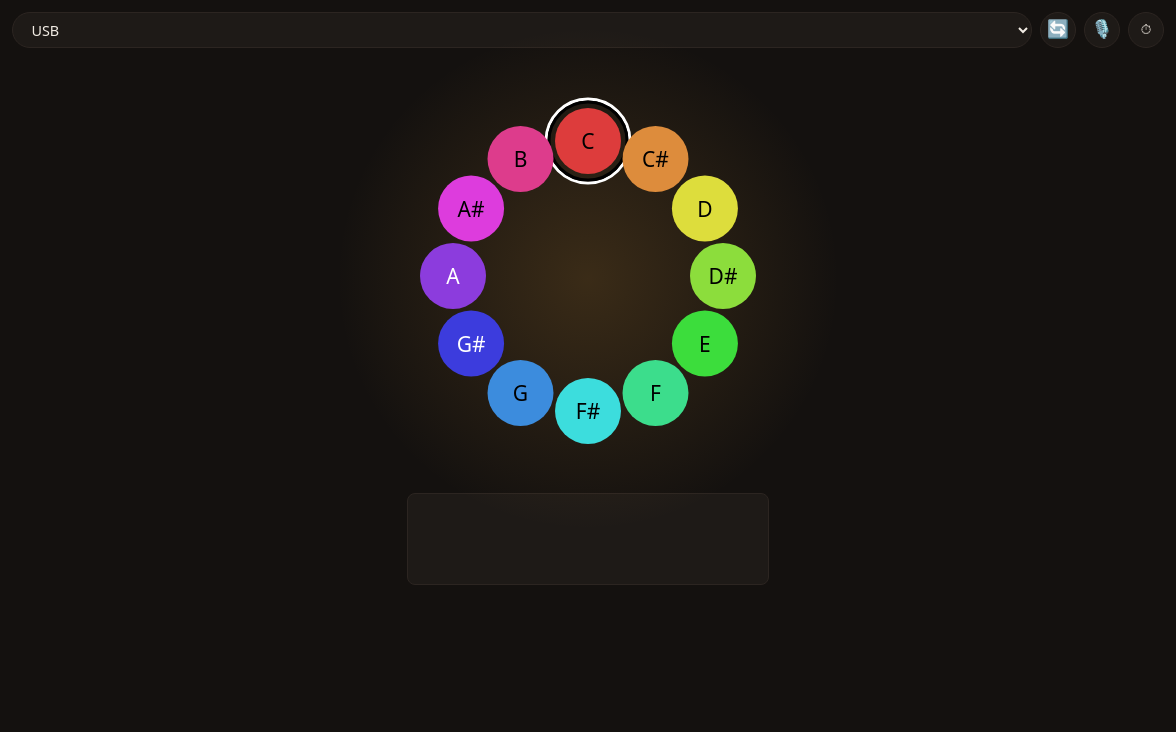
Test: InputLane › latency › fails without playing when the audio clock does not start
Click the button named "Atraso da entrada". click: click(1146, 30)
box: [1128,12,1164,48]
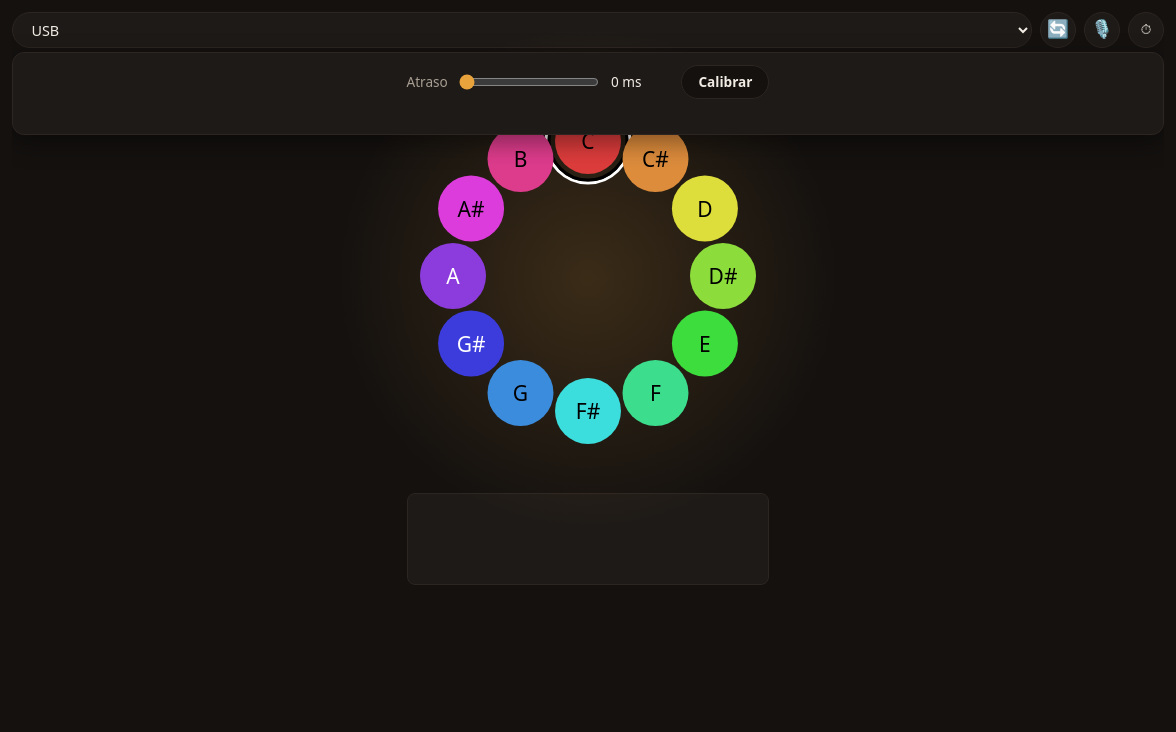
Click the button "Calibrar". click: click(725, 82)
box: [681,65,770,99]
Wait 5000 ms
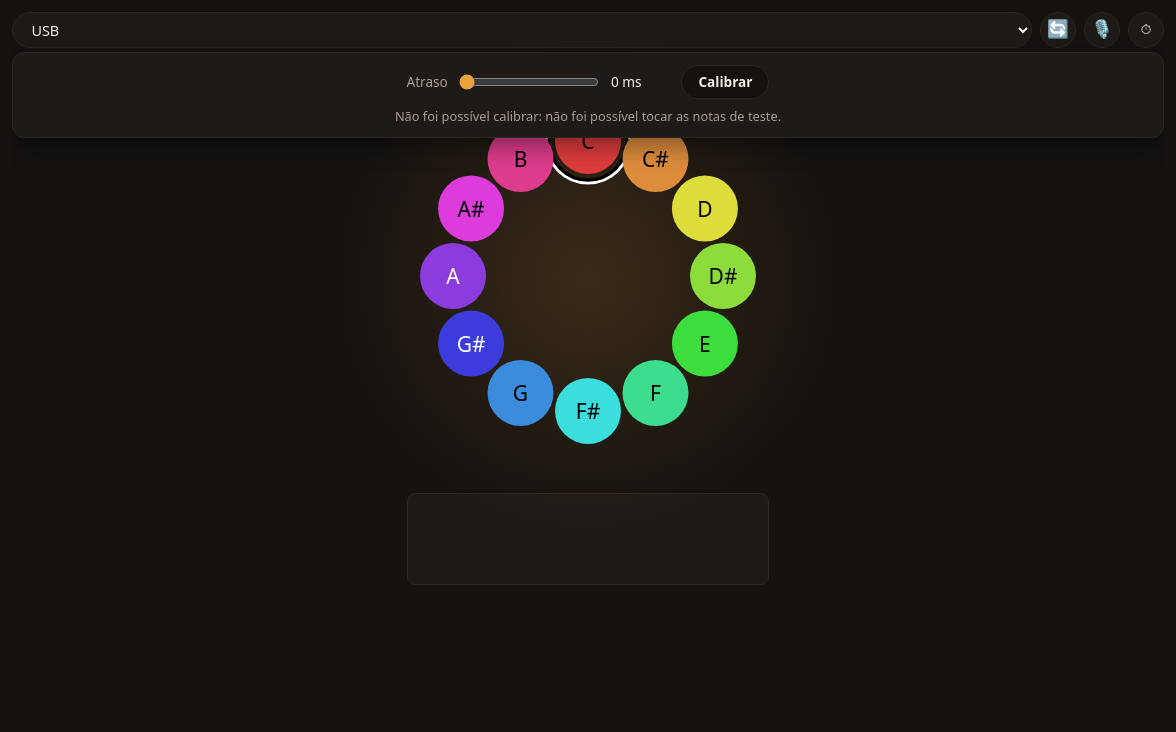
Expected: the button "Calibrar" is enabled, [681,65,770,99]
Expected: the text "Não foi possível calibrar: não foi possível tocar as notas de teste." is shown, [395,107,781,125]
